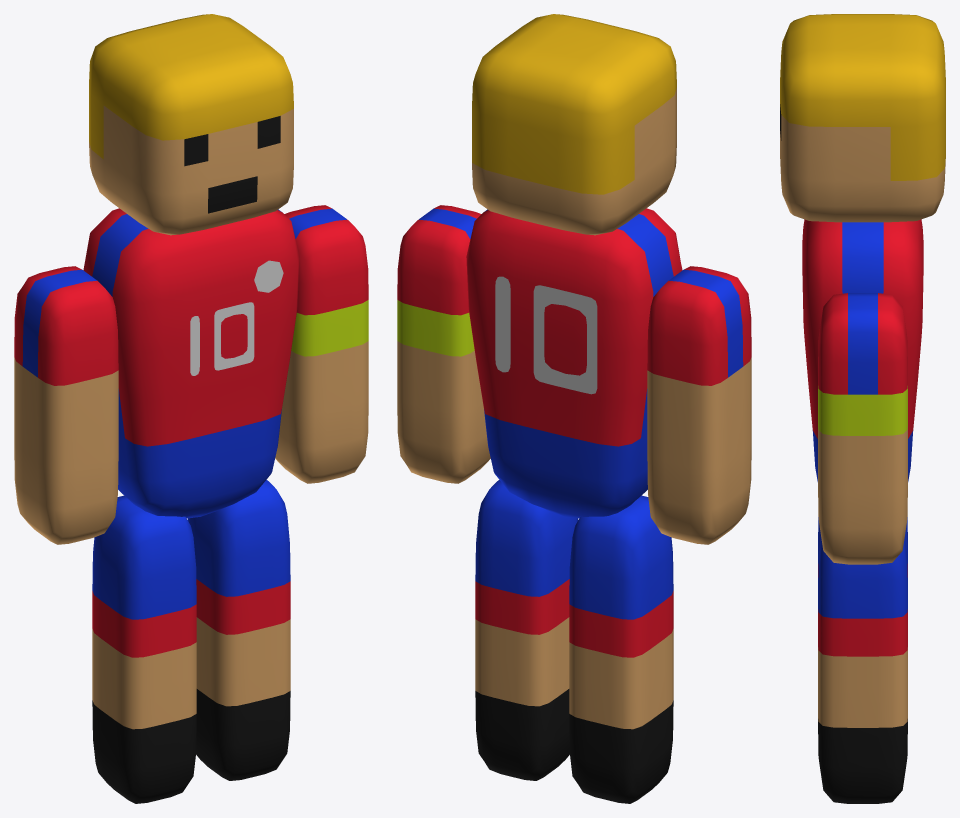
File: man.fbx
3 renders of one model, left to right at view 1: azimuth 30°, elevation 25°; view 2: azimuth 150°, elevation 25°; view 3: azimuth 270°, elevation 25°, orthographic.
Visible parts, largest first — view 1: Cube, Cube.001, Cube.003, Cube.005, Cube.002, Cube.004; view 2: Cube, Cube.001, Cube.003, Cube.005, Cube.002, Cube.004; view 3: Cube.001, Cube.004, Cube.002, Cube.
Boxes of the visible parts, left/top/right/bottom form: Cube: left=83, top=208, right=299, bottom=518; Cube.001: left=89, top=14, right=293, bottom=235; Cube.003: left=92, top=495, right=196, bottom=803; Cube.005: left=14, top=266, right=118, bottom=544; Cube.002: left=187, top=480, right=290, bottom=780; Cube.004: left=275, top=205, right=368, bottom=483; Cube: left=466, top=208, right=682, bottom=518; Cube.001: left=472, top=14, right=676, bottom=235; Cube.003: left=569, top=495, right=673, bottom=803; Cube.005: left=647, top=266, right=751, bottom=544; Cube.002: left=475, top=480, right=578, bottom=780; Cube.004: left=397, top=205, right=490, bottom=483; Cube.001: left=780, top=14, right=945, bottom=222; Cube.004: left=818, top=293, right=907, bottom=564; Cube.002: left=818, top=537, right=907, bottom=803; Cube: left=802, top=219, right=923, bottom=481.
Bounding box in the file's own units: 2.06 × 4.5 × 0.9206.
